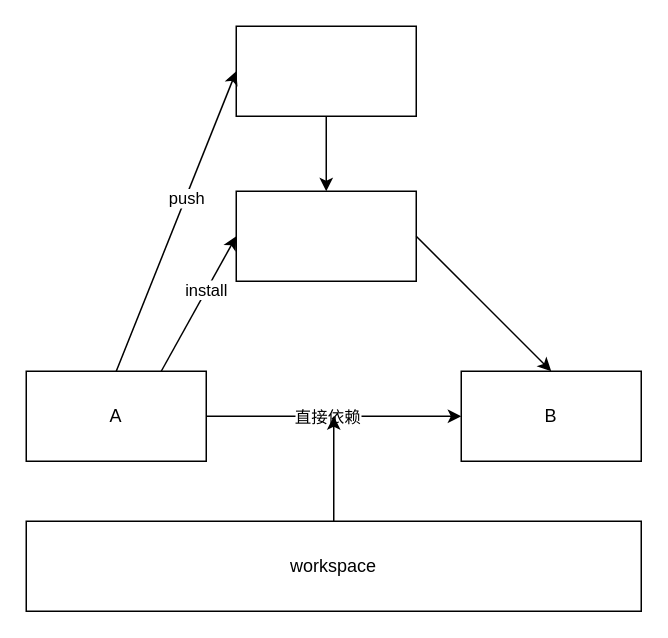
Image size: 668x638. Some labels were removed from this diagram. Each missing label, with the box of its shape:
go mod（dir）: (235, 190, 416, 281)
远程仓库（github）: (235, 25, 416, 116)
